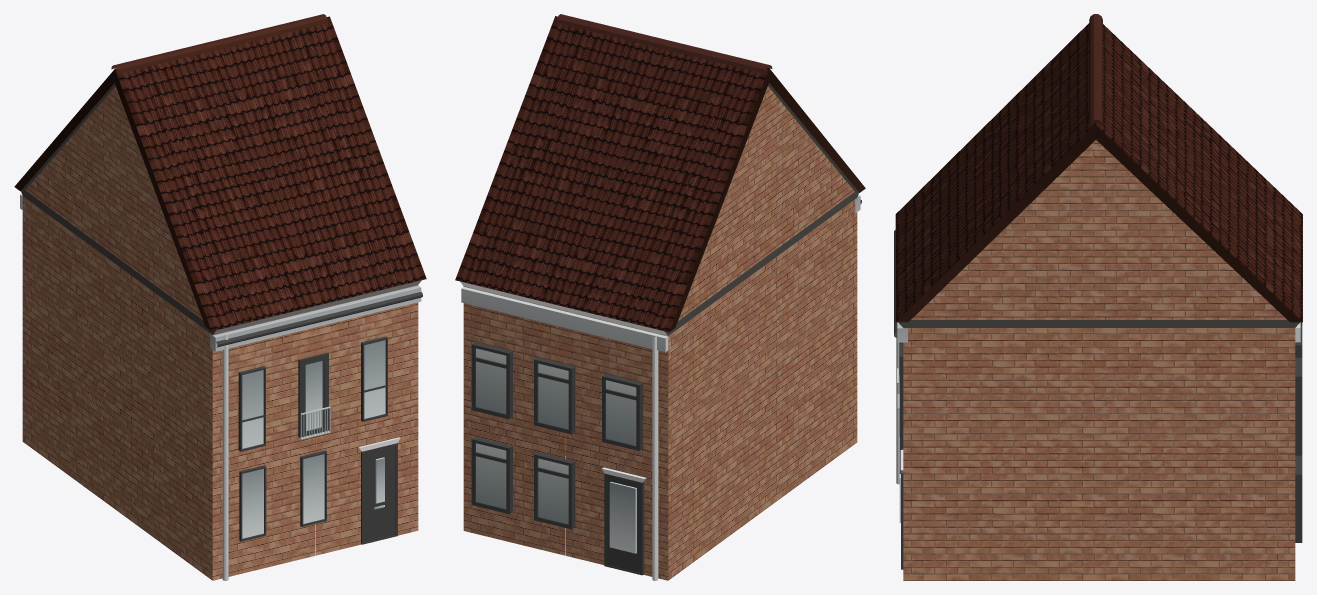
Rendered from It_Tek_26.fbx.
3 views of the same model, side by side, from view 1: azimuth 30°, elevation 25°; view 2: azimuth 150°, elevation 25°; view 3: azimuth 270°, elevation 25° (orthographic). The views are drawn at different scales.
Visible parts, largest first — view 1: It_Tek_26; view 2: It_Tek_26; view 3: It_Tek_26.
Part boxes in pixels (x1,y1,x2,y2): It_Tek_26: (14,14,426,580); It_Tek_26: (455,14,865,580); It_Tek_26: (894,14,1302,580).
Size of the model in its own units: 587 by 1167 by 937.
